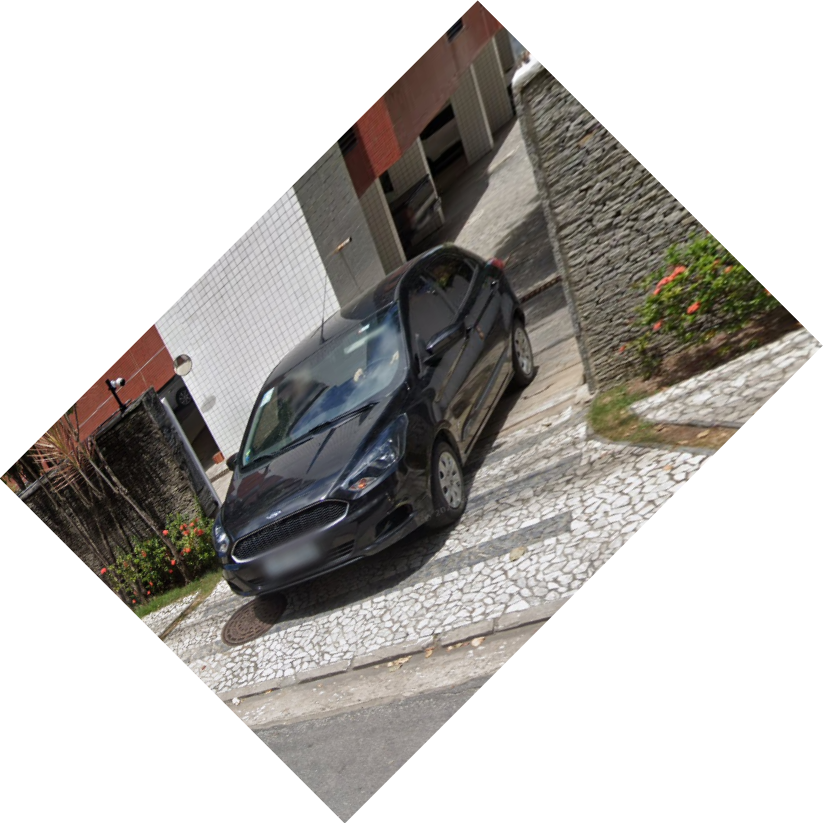car: (203, 241, 541, 618)
